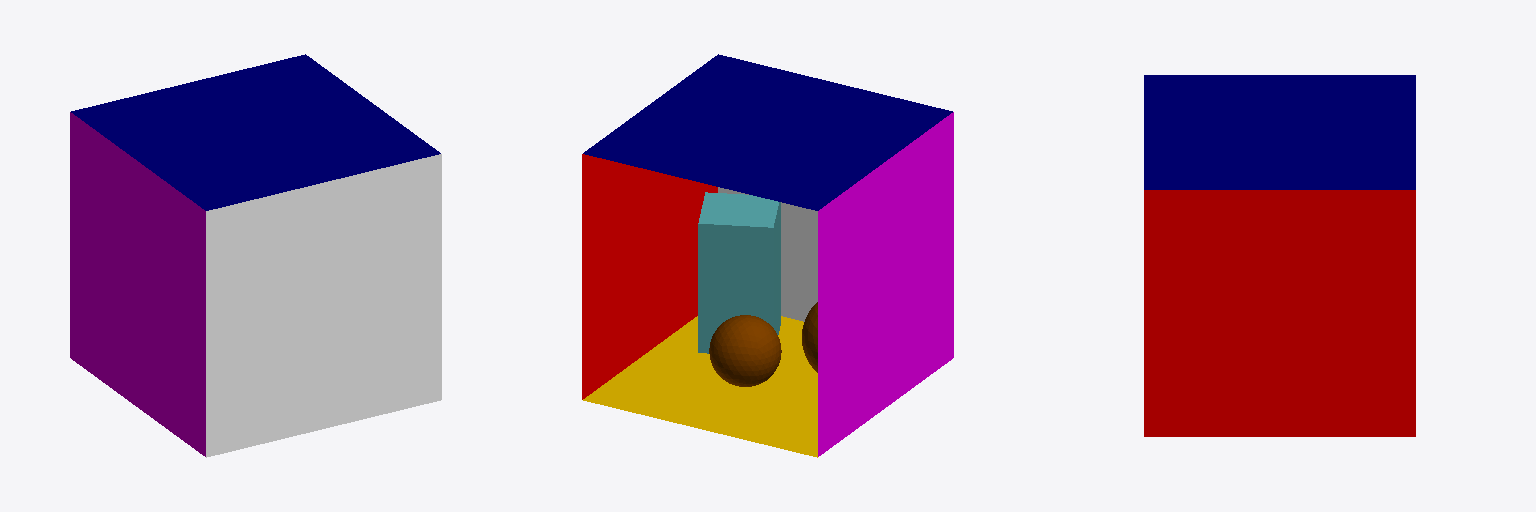
Rendered from room1.obj.
3 views of the same model, side by side, from view 1: azimuth 30°, elevation 25°; view 2: azimuth 150°, elevation 25°; view 3: azimuth 270°, elevation 25° (orthographic).
Parts seen in each view (by area): view 1: Box001; view 2: Box001; view 3: Box001.
Boxes of the visible parts, <box> form: Box001: <box>70,54,441,457</box>; Box001: <box>582,54,953,457</box>; Box001: <box>1144,75,1415,436</box>.
Size of the model in its own units: 40 by 40 by 40.